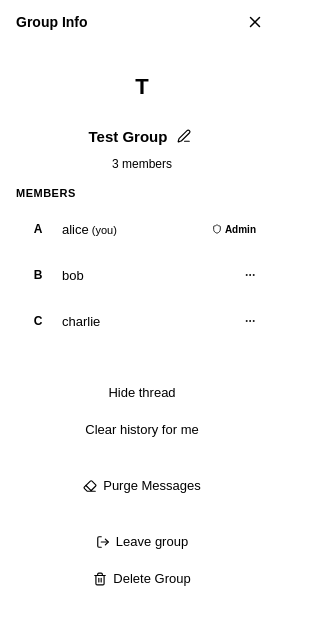
Test: GroupInfoPanel › shows fallback error for non-Error deleteGroup rejection
Click the button "Delete Group": click(142, 578) [16, 563, 268, 594]
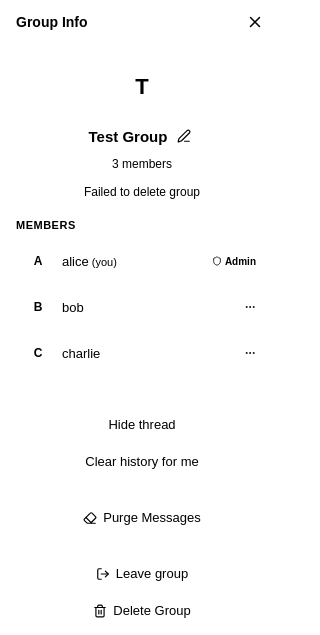
Expected: the text "Failed to delete group" is shown, [84, 185, 200, 199]
